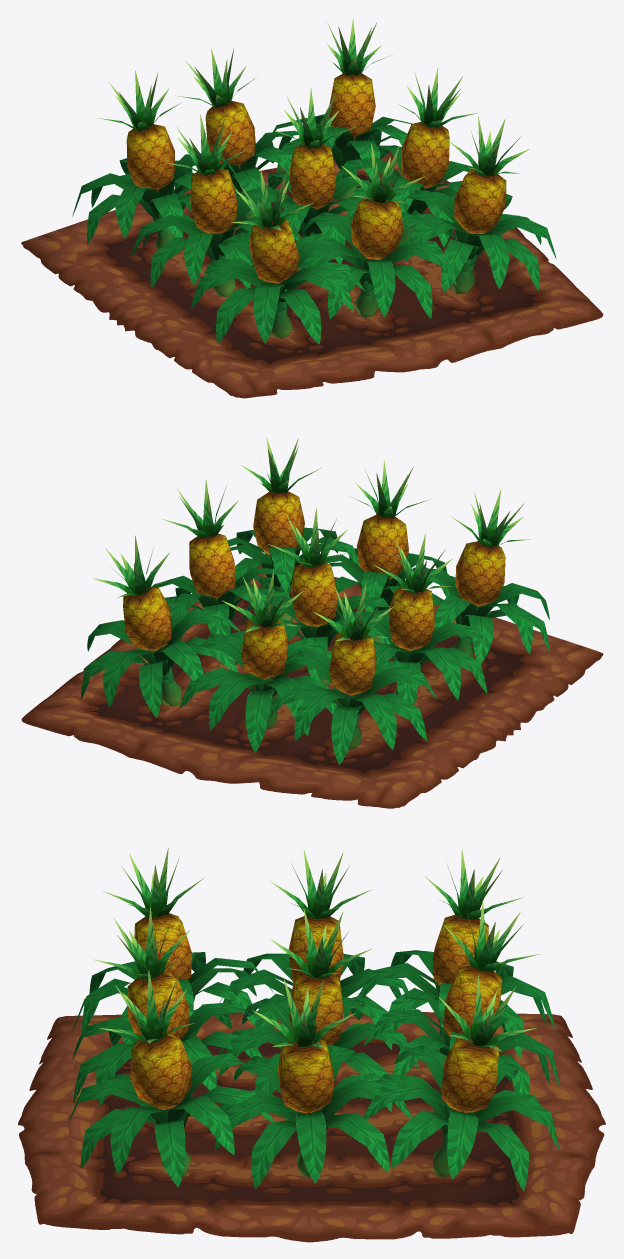
File: Pineapple_Field_Lv3.FBX
The picture shows the model from 3 angles, top to bottom: view 1: azimuth 30°, elevation 25°; view 2: azimuth 150°, elevation 25°; view 3: azimuth 270°, elevation 25°; orthographic projection. The views are drawn at different scales.
Visible parts, largest first — view 1: Pineapple_Field_Lv3; view 2: Pineapple_Field_Lv3; view 3: Pineapple_Field_Lv3.
Part boxes in pixels (left/top/right/bottom): Pineapple_Field_Lv3: left=21, top=19, right=603, bottom=398; Pineapple_Field_Lv3: left=21, top=437, right=603, bottom=808; Pineapple_Field_Lv3: left=18, top=848, right=605, bottom=1242.
Size of the model in its own units: 274 by 118 by 296.
